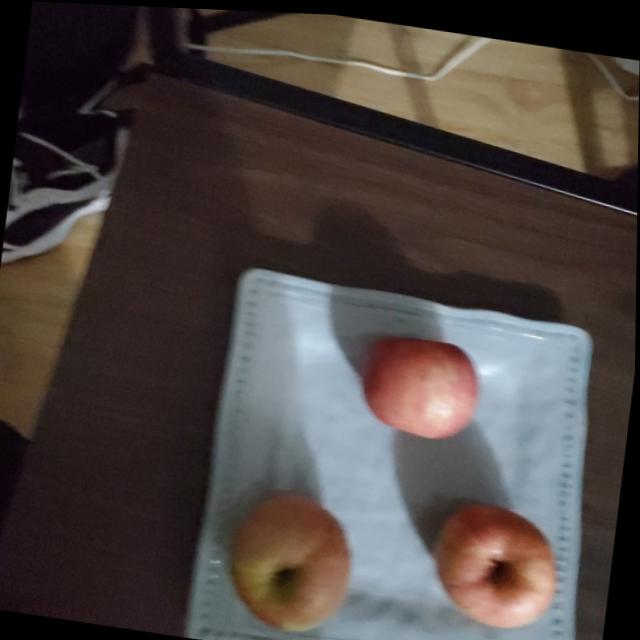apple: (227, 487, 361, 638), (426, 495, 566, 634), (358, 327, 487, 442)
